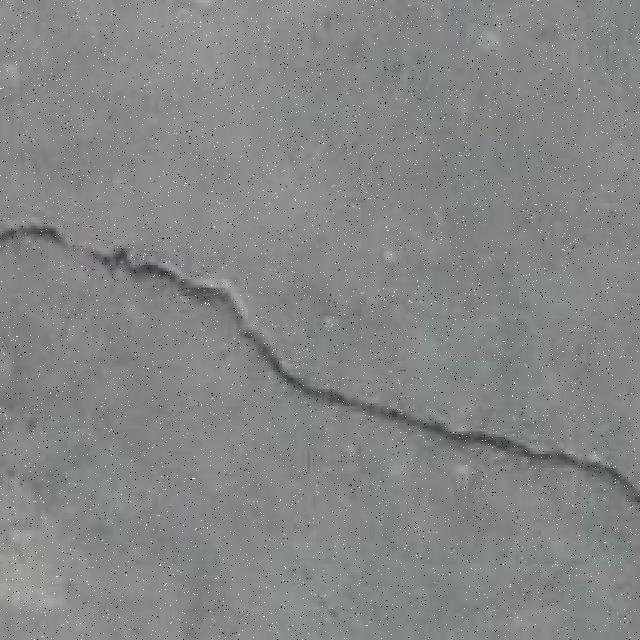minor crack: (5, 223, 636, 530)
moderate crack: (203, 304, 356, 402), (4, 222, 68, 250)
